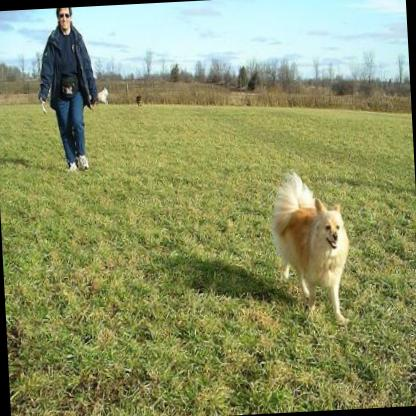Pomeranian: (266, 165, 352, 326)
